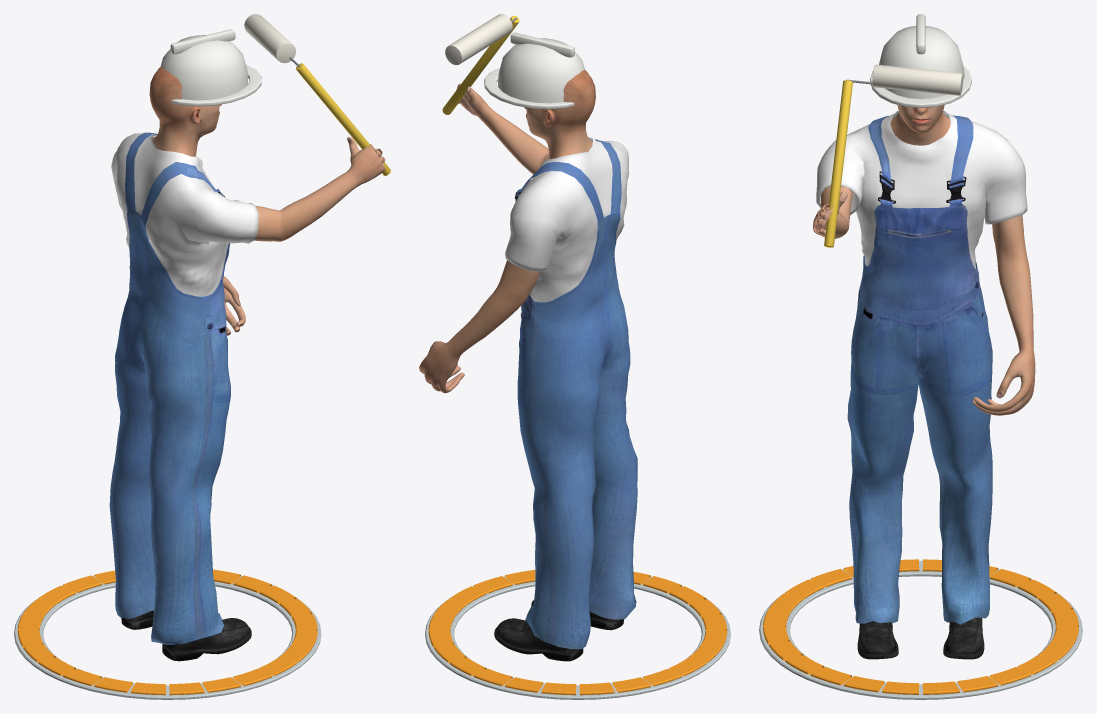
Rendered from MDO-OBR-006.glb.
The picture shows the model from 3 angles, left to right: view 1: azimuth 30°, elevation 25°; view 2: azimuth 150°, elevation 25°; view 3: azimuth 270°, elevation 25°; orthographic projection. The views are drawn at different scales.
Parts seen in each view (by area): view 1: MDO-OBR-006_pessoa_male_worksuit01, MDO-OBR-006_pessoa, MDO-OBR-006_capacete, MDO-OBR-006_anel_fundo, MDO-OBR-006_pessoa_shoes04, MDO-OBR-006_ferD_rolo, MDO-OBR-006_ferD_cabo, MDO-OBR-006_capacete_aba, MDO-OBR-006_capacete_friso; view 2: MDO-OBR-006_pessoa_male_worksuit01, MDO-OBR-006_pessoa, MDO-OBR-006_capacete, MDO-OBR-006_anel_fundo, MDO-OBR-006_pessoa_shoes04, MDO-OBR-006_ferD_rolo, MDO-OBR-006_ferD_cabo, MDO-OBR-006_capacete_aba, MDO-OBR-006_capacete_friso; view 3: MDO-OBR-006_pessoa_male_worksuit01, MDO-OBR-006_pessoa, MDO-OBR-006_anel_fundo, MDO-OBR-006_capacete, MDO-OBR-006_pessoa_shoes04, MDO-OBR-006_ferD_rolo, MDO-OBR-006_ferD_cabo, MDO-OBR-006_capacete_aba.
Part boxes in pixels (bbox=[...]): MDO-OBR-006_pessoa_male_worksuit01: bbox=[109, 132, 258, 644]; MDO-OBR-006_pessoa: bbox=[149, 67, 385, 335]; MDO-OBR-006_capacete: bbox=[160, 35, 248, 100]; MDO-OBR-006_anel_fundo: bbox=[14, 575, 321, 699]; MDO-OBR-006_pessoa_shoes04: bbox=[121, 610, 251, 661]; MDO-OBR-006_ferD_rolo: bbox=[244, 14, 295, 63]; MDO-OBR-006_ferD_cabo: bbox=[296, 63, 390, 175]; MDO-OBR-006_capacete_aba: bbox=[171, 64, 261, 106]; MDO-OBR-006_capacete_friso: bbox=[170, 29, 235, 54]; MDO-OBR-006_pessoa_male_worksuit01: bbox=[504, 137, 637, 649]; MDO-OBR-006_pessoa: bbox=[419, 70, 595, 393]; MDO-OBR-006_capacete: bbox=[498, 38, 584, 103]; MDO-OBR-006_anel_fundo: bbox=[425, 576, 730, 699]; MDO-OBR-006_pessoa_shoes04: bbox=[494, 600, 623, 661]; MDO-OBR-006_ferD_rolo: bbox=[445, 14, 512, 65]; MDO-OBR-006_ferD_cabo: bbox=[442, 15, 519, 114]; MDO-OBR-006_capacete_aba: bbox=[484, 68, 574, 109]; MDO-OBR-006_capacete_friso: bbox=[510, 32, 574, 57]; MDO-OBR-006_pessoa_male_worksuit01: bbox=[816, 111, 1027, 624]; MDO-OBR-006_pessoa: bbox=[813, 105, 1035, 415]; MDO-OBR-006_anel_fundo: bbox=[759, 560, 1082, 699]; MDO-OBR-006_capacete: bbox=[879, 26, 964, 98]; MDO-OBR-006_pessoa_shoes04: bbox=[857, 617, 984, 659]; MDO-OBR-006_ferD_rolo: bbox=[872, 64, 963, 95]; MDO-OBR-006_ferD_cabo: bbox=[824, 80, 852, 247]; MDO-OBR-006_capacete_aba: bbox=[870, 66, 971, 107].
Bounding box in the file's own units: 0.9848 × 1.79 × 0.84.
Materials: 11 (5 with a texture image).
